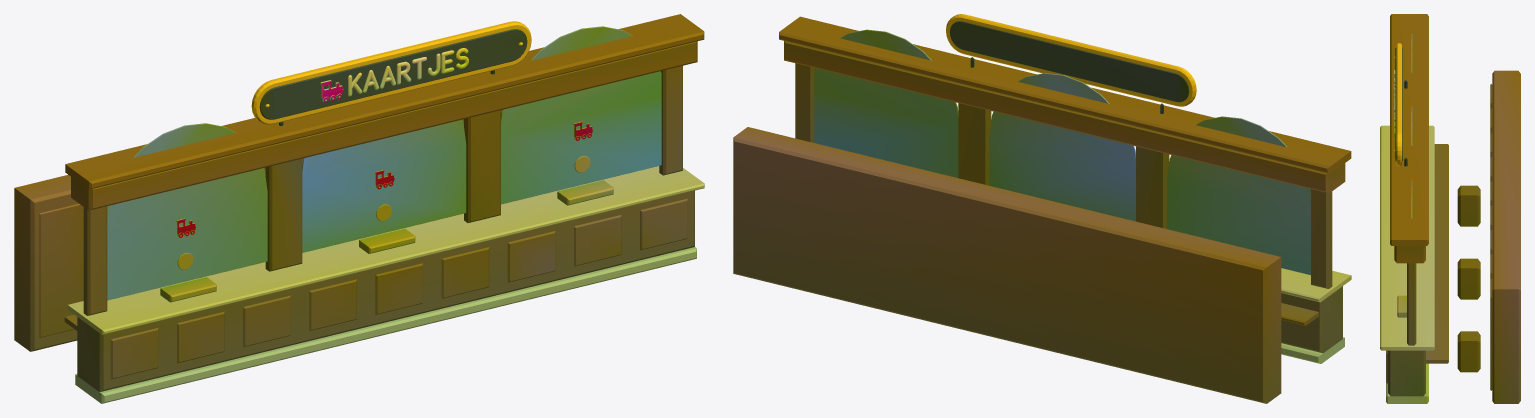
File: GS_TicketCounter.fbx
The picture shows the model from 3 angles, left to right: view 1: azimuth 30°, elevation 25°; view 2: azimuth 150°, elevation 25°; view 3: azimuth 270°, elevation 25°; orthographic projection. The views are drawn at different scales.
Visible parts, largest first — view 1: GS_TicketCounter, Sign_Tickets_Text; view 2: GS_TicketCounter; view 3: GS_TicketCounter, Sign_Tickets_Text.
Part boxes in pixels (x1,y1,x2,y2): GS_TicketCounter: [14, 14, 704, 403]; Sign_Tickets_Text: [348, 48, 468, 96]; GS_TicketCounter: [733, 14, 1351, 403]; GS_TicketCounter: [1380, 14, 1520, 403]; Sign_Tickets_Text: [1393, 80, 1395, 137].
Size of the model in its own units: 9.3 by 3.96 by 2.45.
